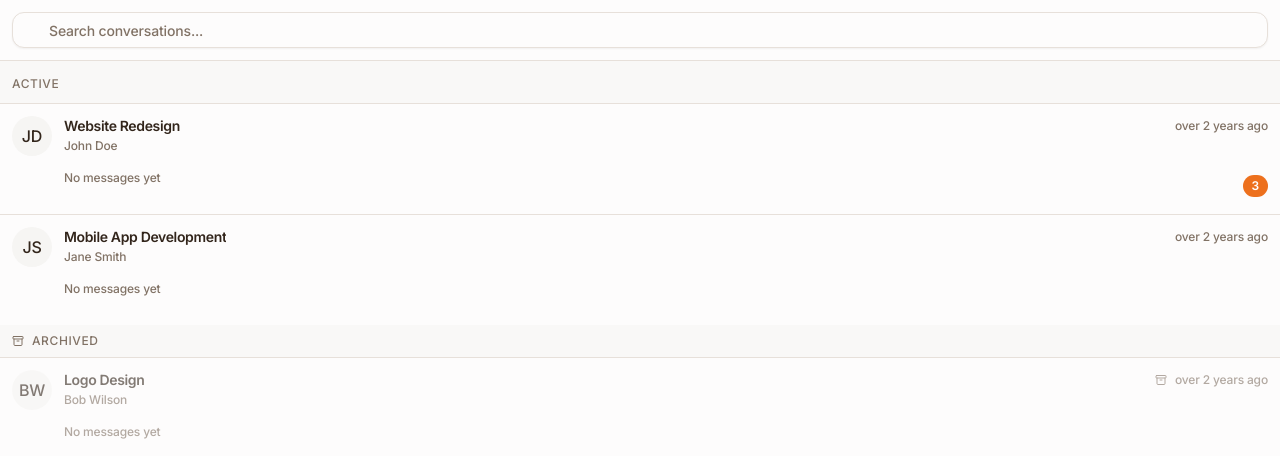
Test: ConversationList › Search/Filter › should filter conversations based on search query
The width and height of the screenshot is (1280, 456).
Type "Website" into the field with placeholder "Search conversations..." at (640, 30), box left=12, top=12, right=1268, bottom=48
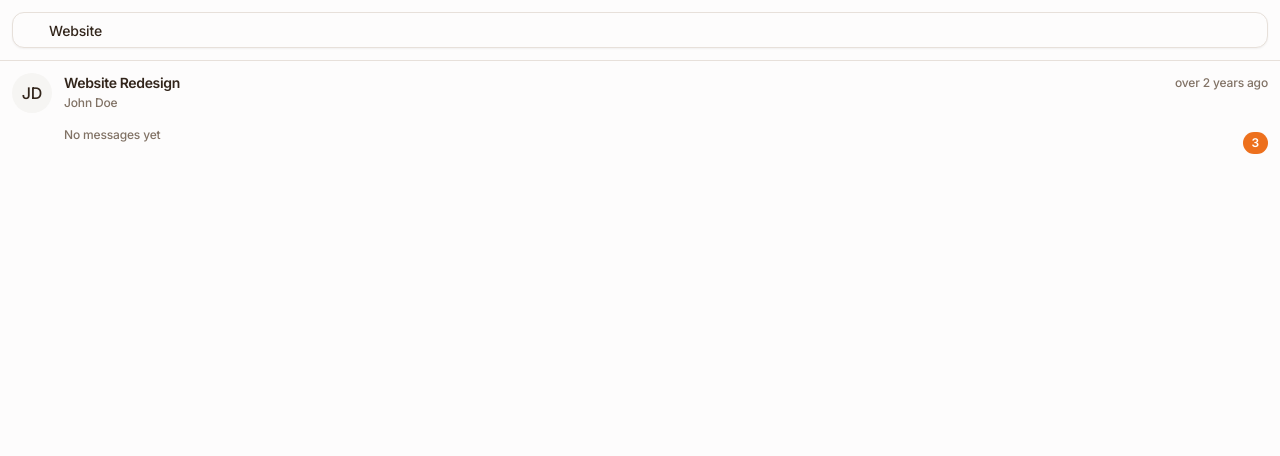
Expected: the heading "Website Redesign" is shown, left=64, top=73, right=180, bottom=93
Expected: the button "Mobile App Development" is gone
